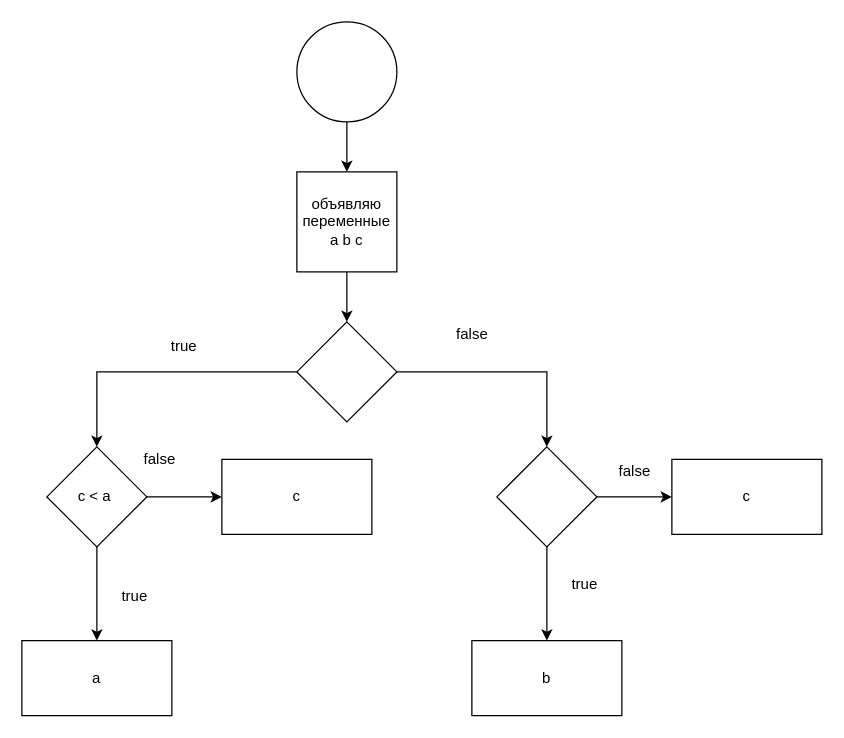
The diagram is 844 pixels wide and 738 high, and some of its shapes have lost their labels. The centre of each missing label's shape, as x and y in pixels:
b < a: pixel 346 371
c < b: pixel 546 496
начало: pixel 346 71
